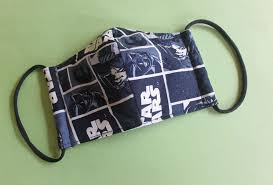FaceMask: (43, 27, 219, 151)
